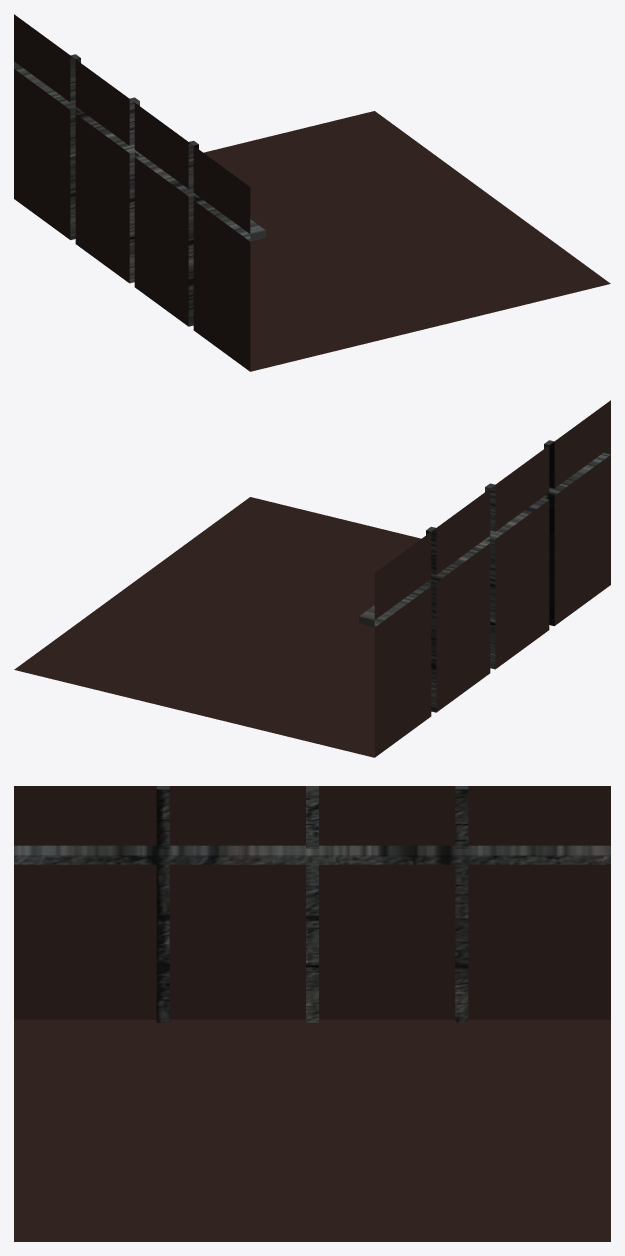
Rendered from hallway.fbx.
3 views of the same model, one above another, from view 1: azimuth 30°, elevation 25°; view 2: azimuth 150°, elevation 25°; view 3: azimuth 270°, elevation 25° (orthographic). The views are drawn at different scales.
Visible parts, largest first — view 1: hallway; view 2: hallway; view 3: hallway.
Boxes of the visible parts, box(x1,y1,x2,y2) form: hallway: box(14, 14, 610, 371); hallway: box(14, 400, 610, 757); hallway: box(14, 786, 610, 1241).
Size of the model in its own units: 80.58 by 39.45 by 91.42.
